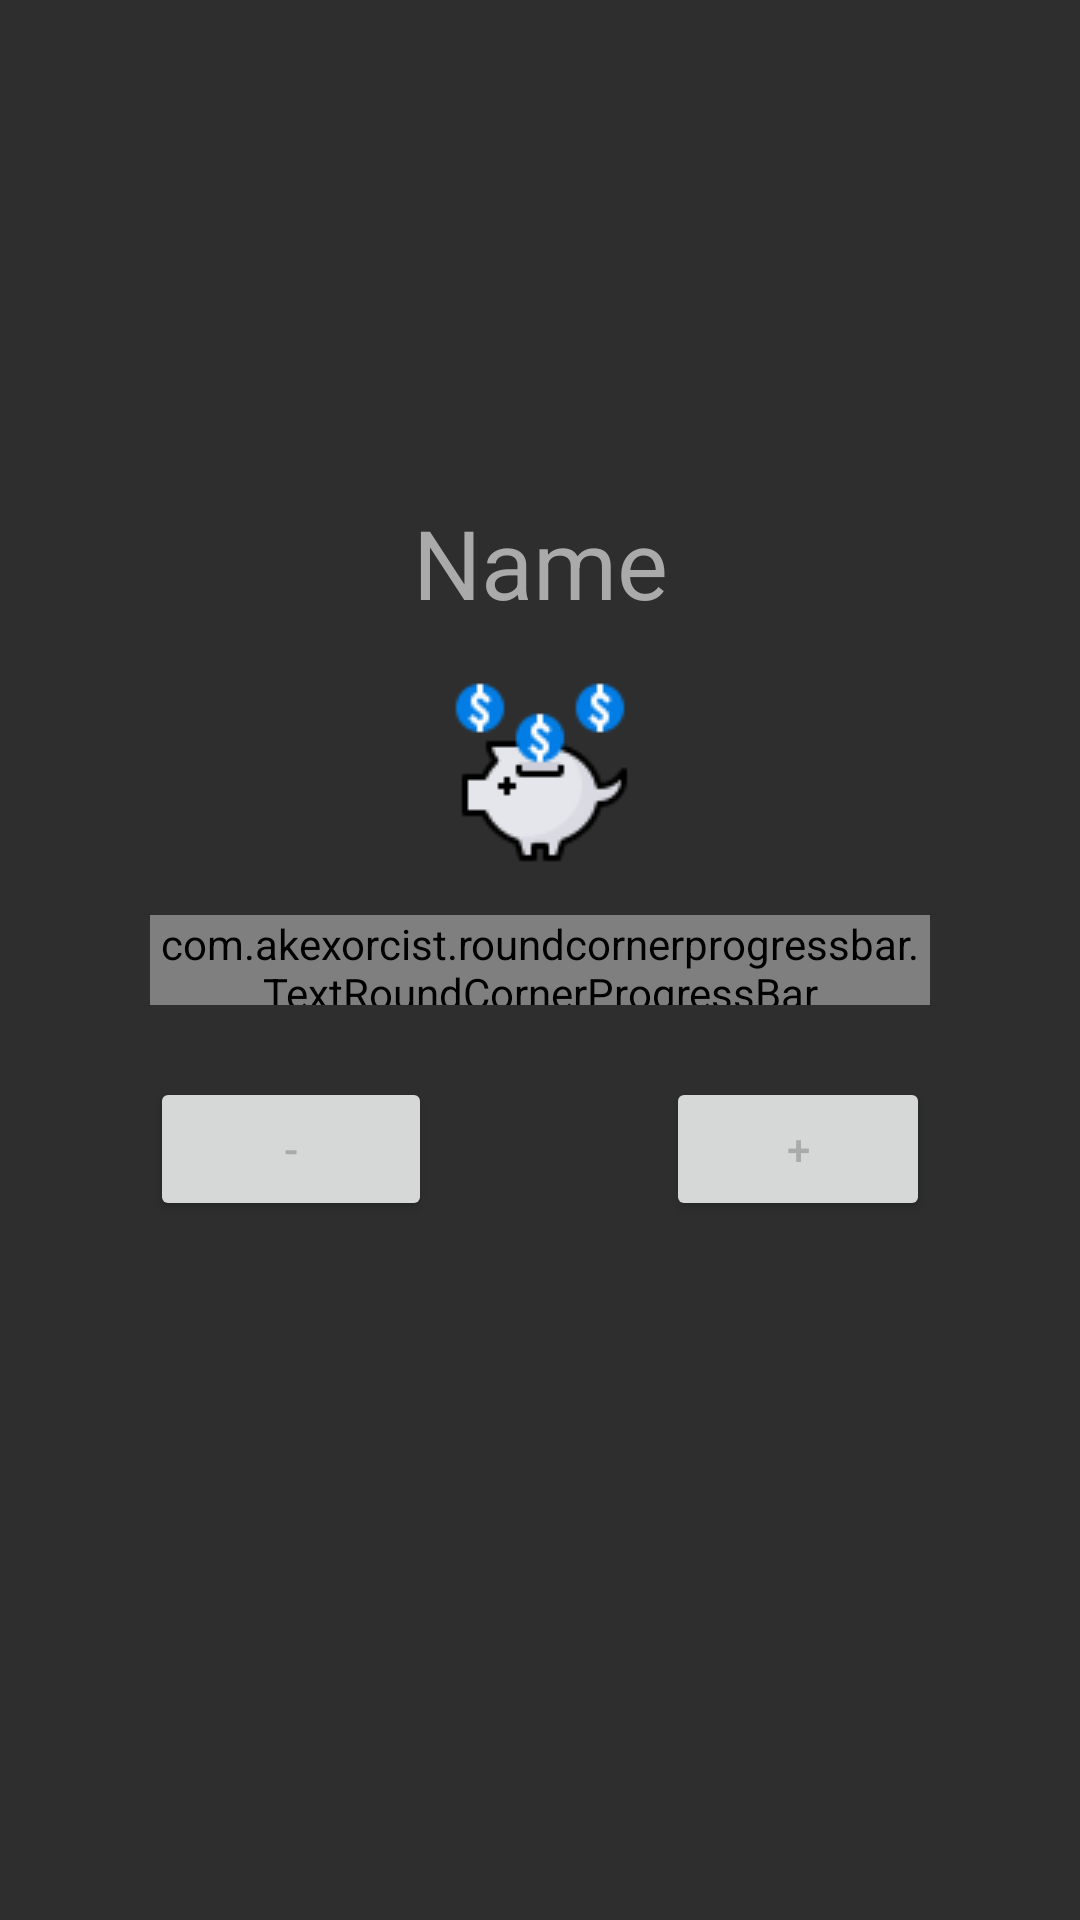

Icons on this 1080 × 1920 Android screen, each with the point to tap as (x=x, y=y):
piggy bank: (x=541, y=772)
